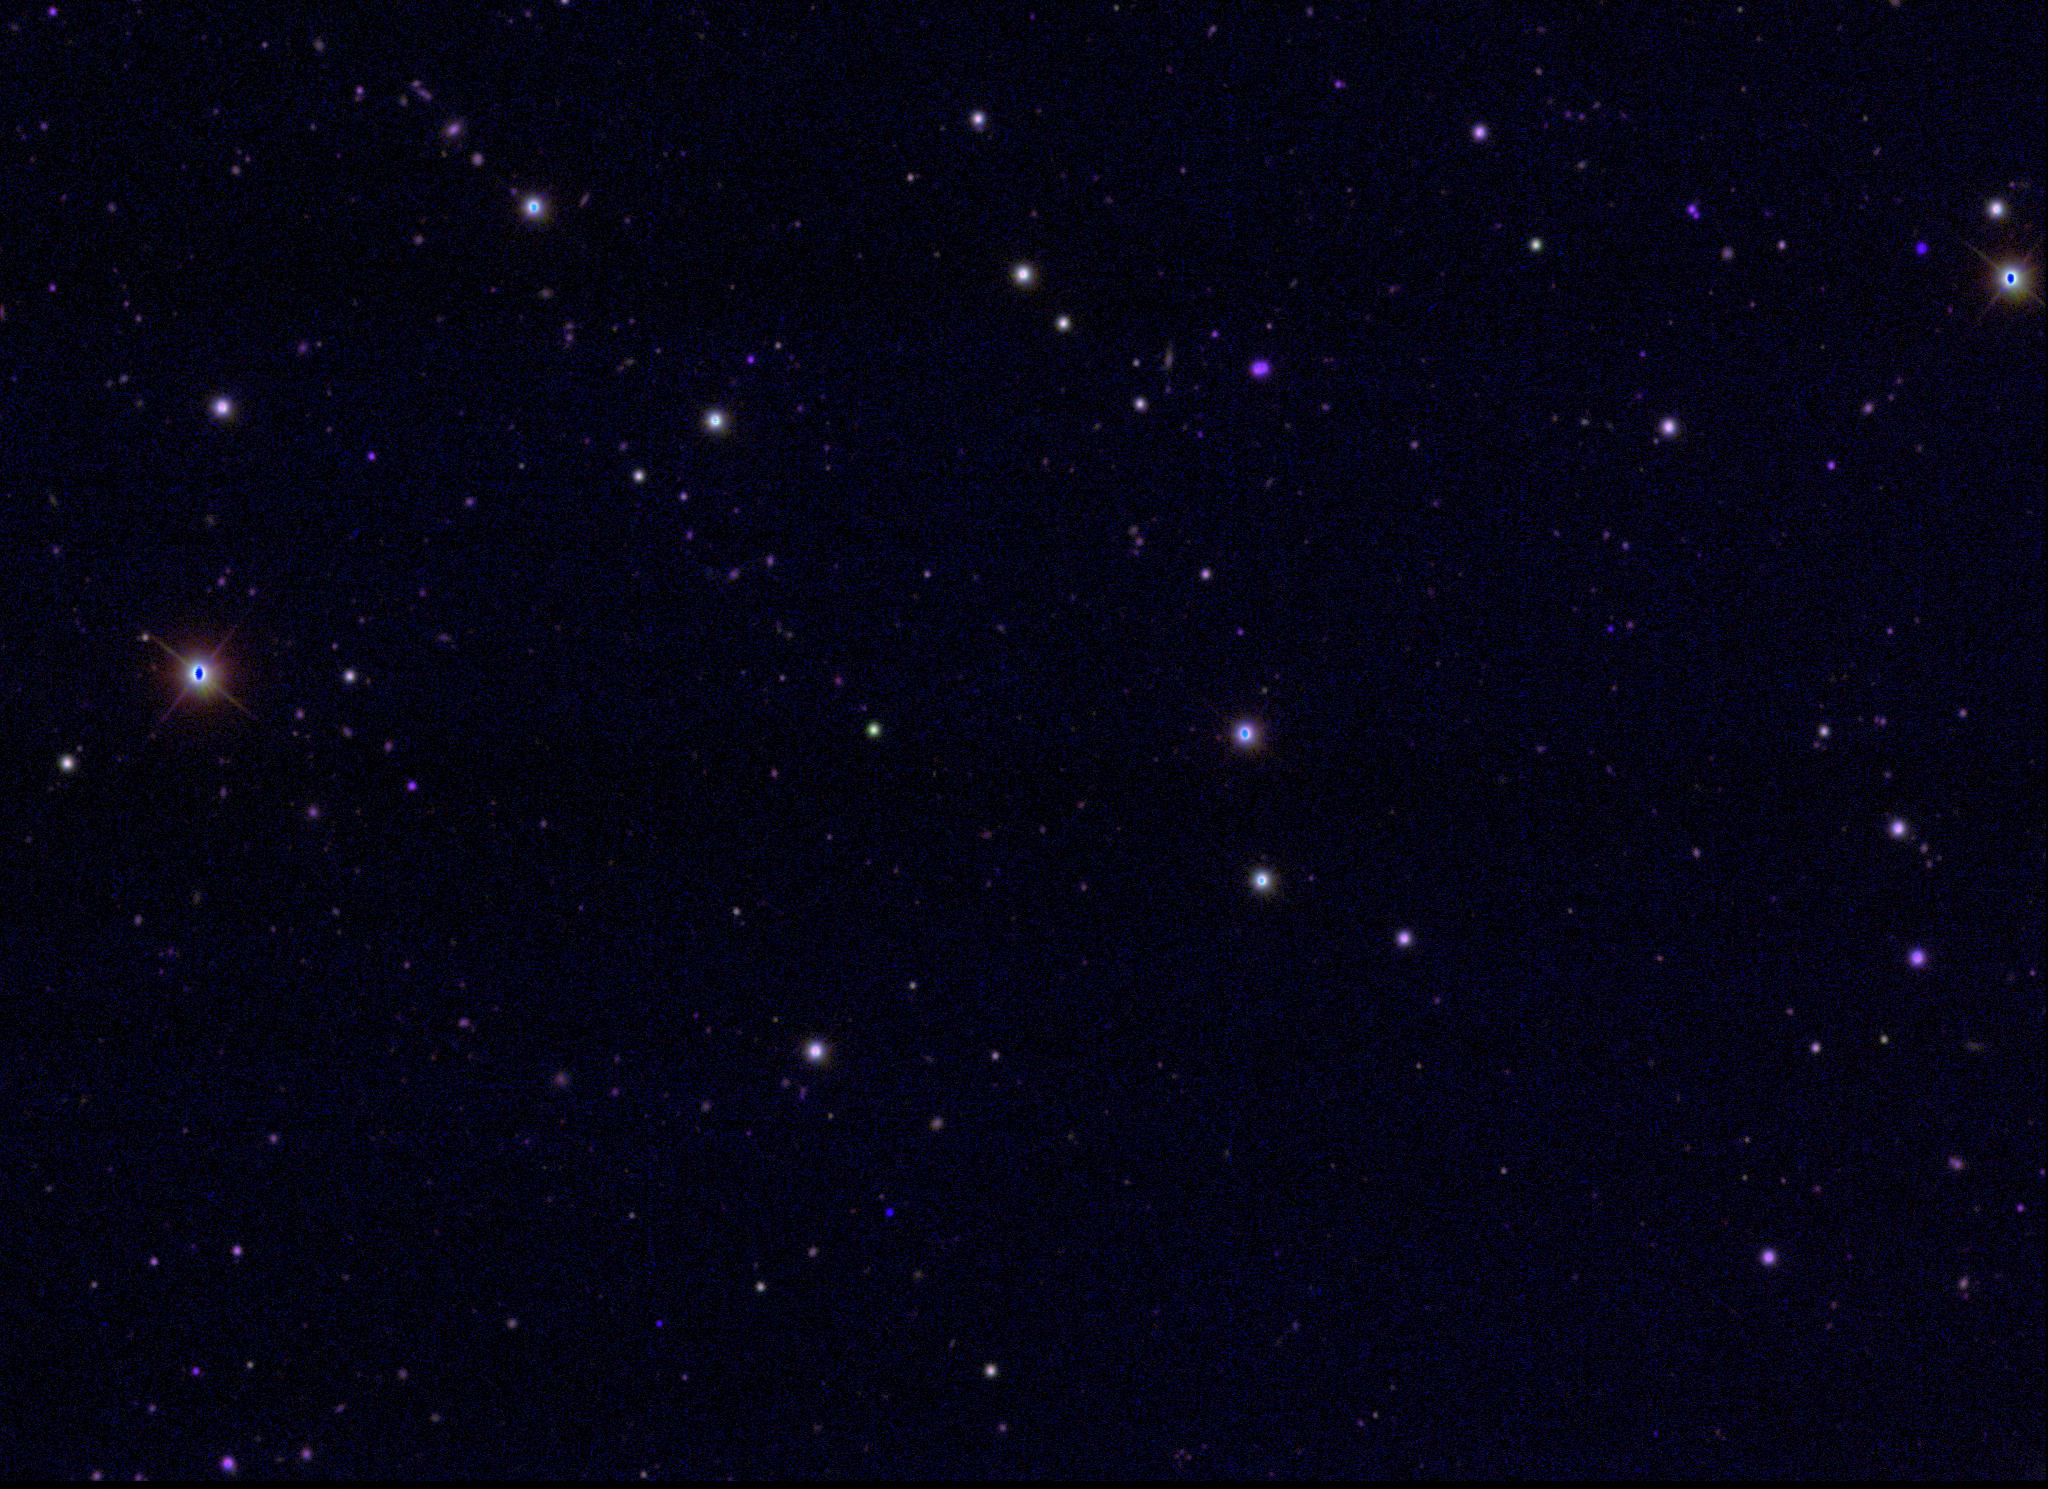L: (881, 1209, 895, 1223)
